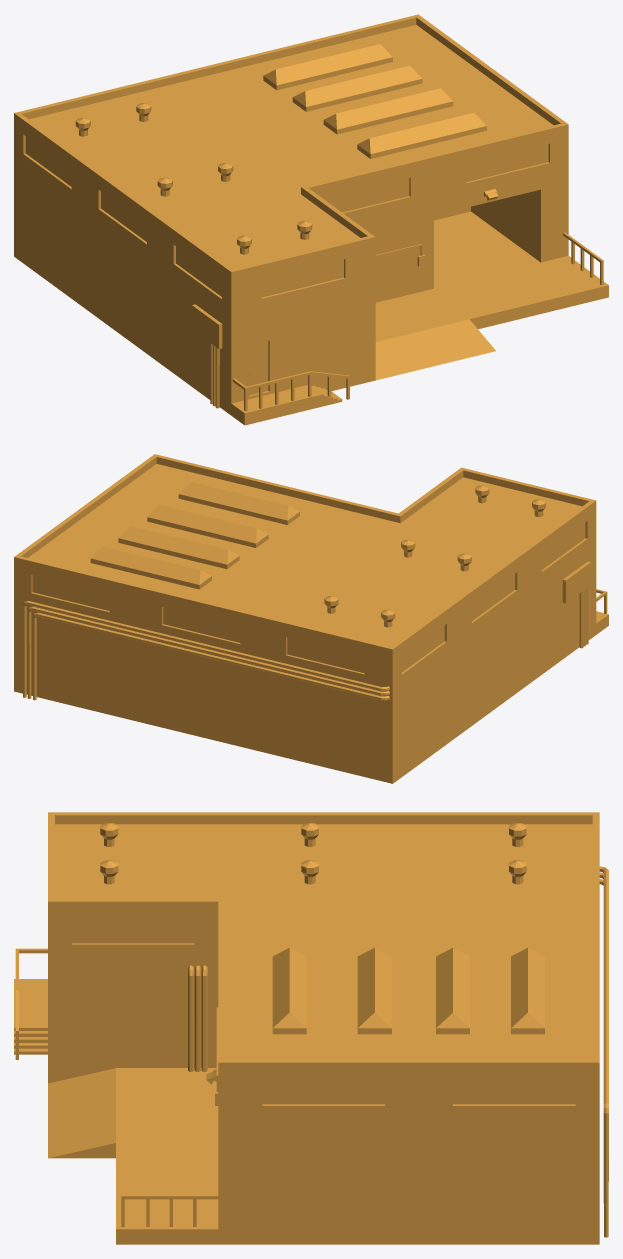
File: industry-warehouse.fbx
The picture shows the model from 3 angles, top to bottom: view 1: azimuth 30°, elevation 25°; view 2: azimuth 150°, elevation 25°; view 3: azimuth 270°, elevation 25°; orthographic projection. The views are drawn at different scales.
Parts seen in each view (by area): view 1: industry-warehouse; view 2: industry-warehouse; view 3: industry-warehouse.
Part boxes in pixels (x1,y1,x2,y2): industry-warehouse: (14, 14, 608, 425); industry-warehouse: (14, 454, 608, 783); industry-warehouse: (14, 812, 608, 1244).
Bounding box in the file's own units: 17.55 × 6.3 × 17.48.
